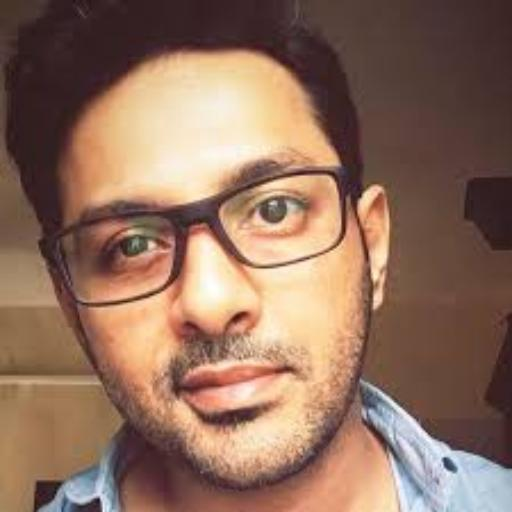left_eye: (245, 197, 316, 234)
left_lip_corner: (274, 360, 303, 386)
right_eye: (104, 233, 172, 264)
right_lip_corner: (169, 379, 195, 403)
